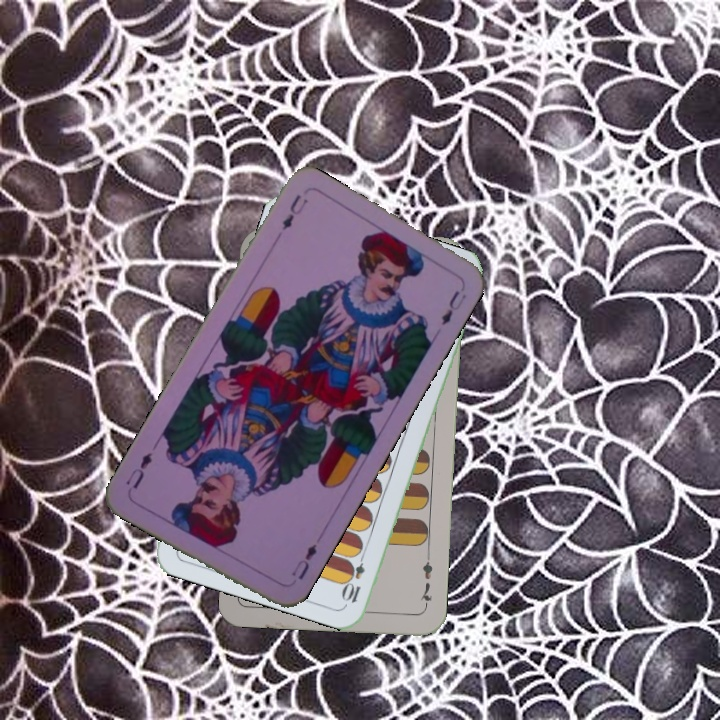E10: (340, 547, 368, 606)
E7: (416, 551, 436, 610)
EU: (277, 190, 311, 233), (287, 540, 320, 582)
